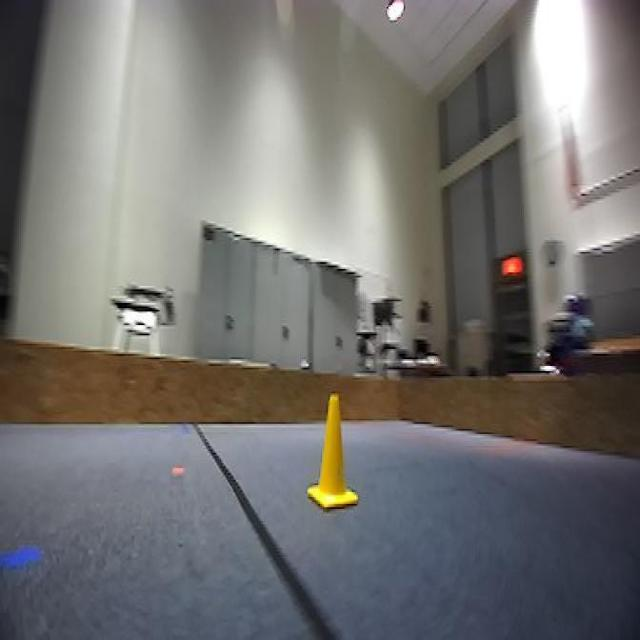frc_cone: (308, 396, 359, 516)
